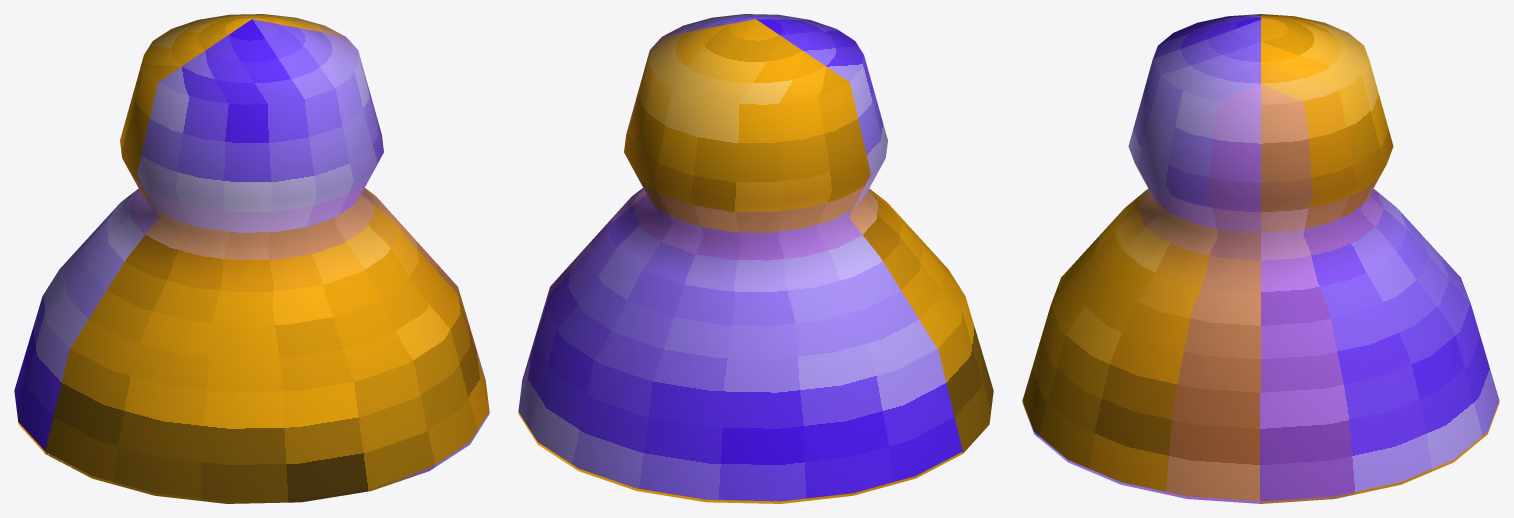
Rendered from Toque.fbx.
3 views of the same model, side by side, from view 1: azimuth 30°, elevation 25°; view 2: azimuth 150°, elevation 25°; view 3: azimuth 270°, elevation 25° (orthographic).
Visible parts, largest first — view 1: first; view 2: first; view 3: first.
Boxes of the visible parts, box(x1,y1,x2,y2) form: first: box(14, 14, 489, 503); first: box(518, 14, 993, 503); first: box(1022, 14, 1499, 503).
Bounding box in the file's own units: 15.08 × 13.39 × 15.08.
